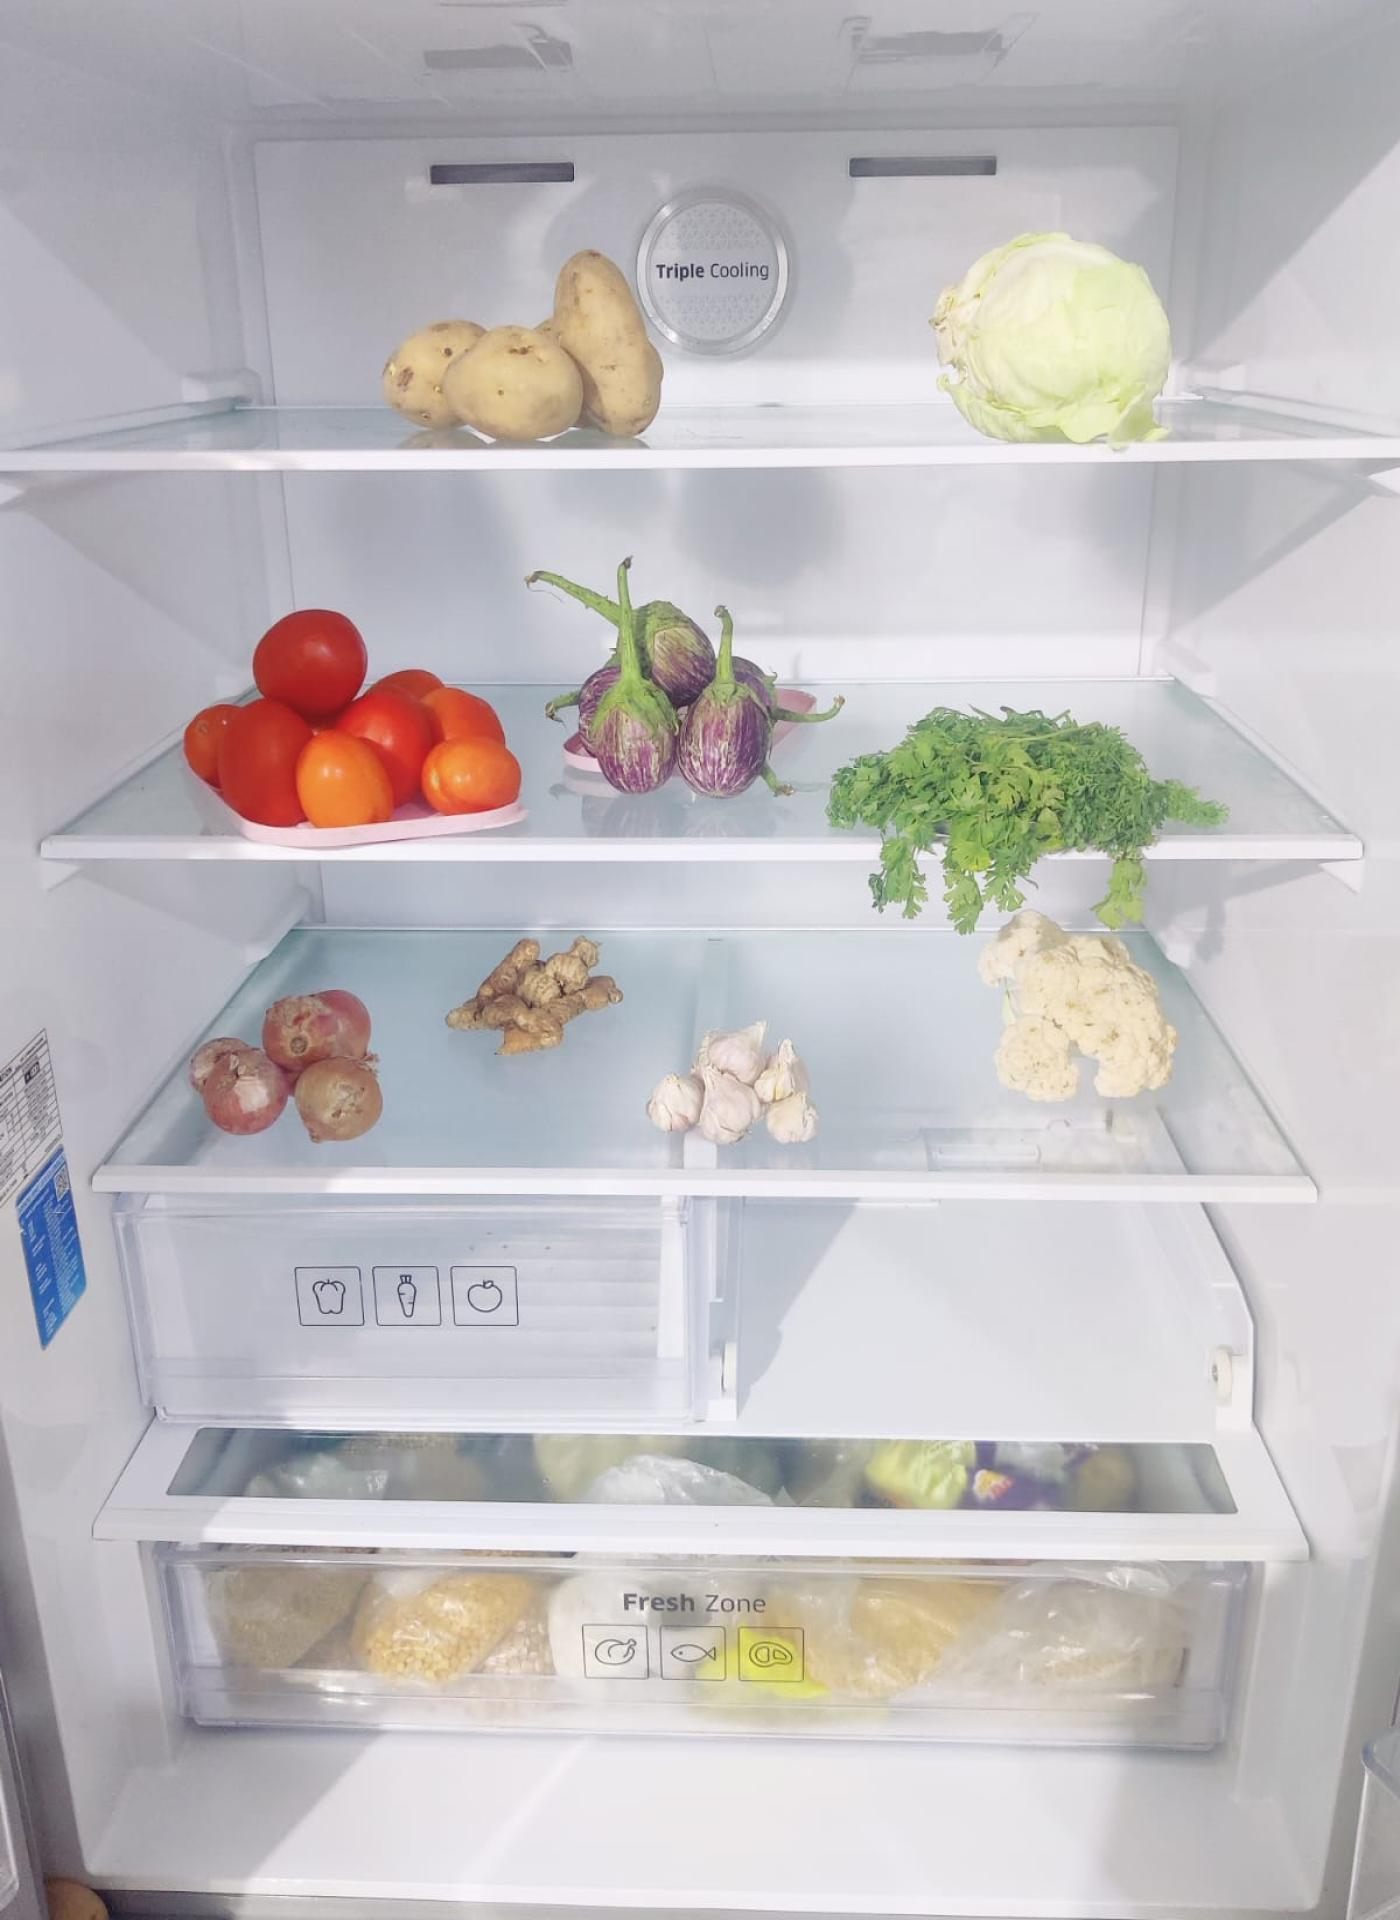brinjal: (576, 601, 780, 796)
cabbage: (935, 233, 1175, 444)
cauliflower: (990, 914, 1182, 1105)
coriander: (838, 710, 1226, 888)
garlic: (656, 1015, 824, 1145)
ginger: (450, 938, 623, 1055)
onion: (192, 985, 382, 1134)
potato: (377, 256, 660, 443)
tomato: (186, 601, 520, 820)
